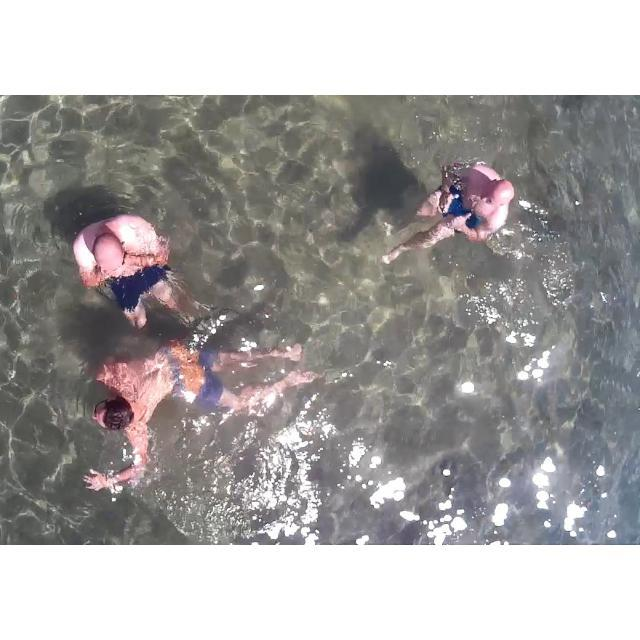human: (72, 341, 314, 500), (52, 199, 206, 342), (377, 148, 521, 283)
